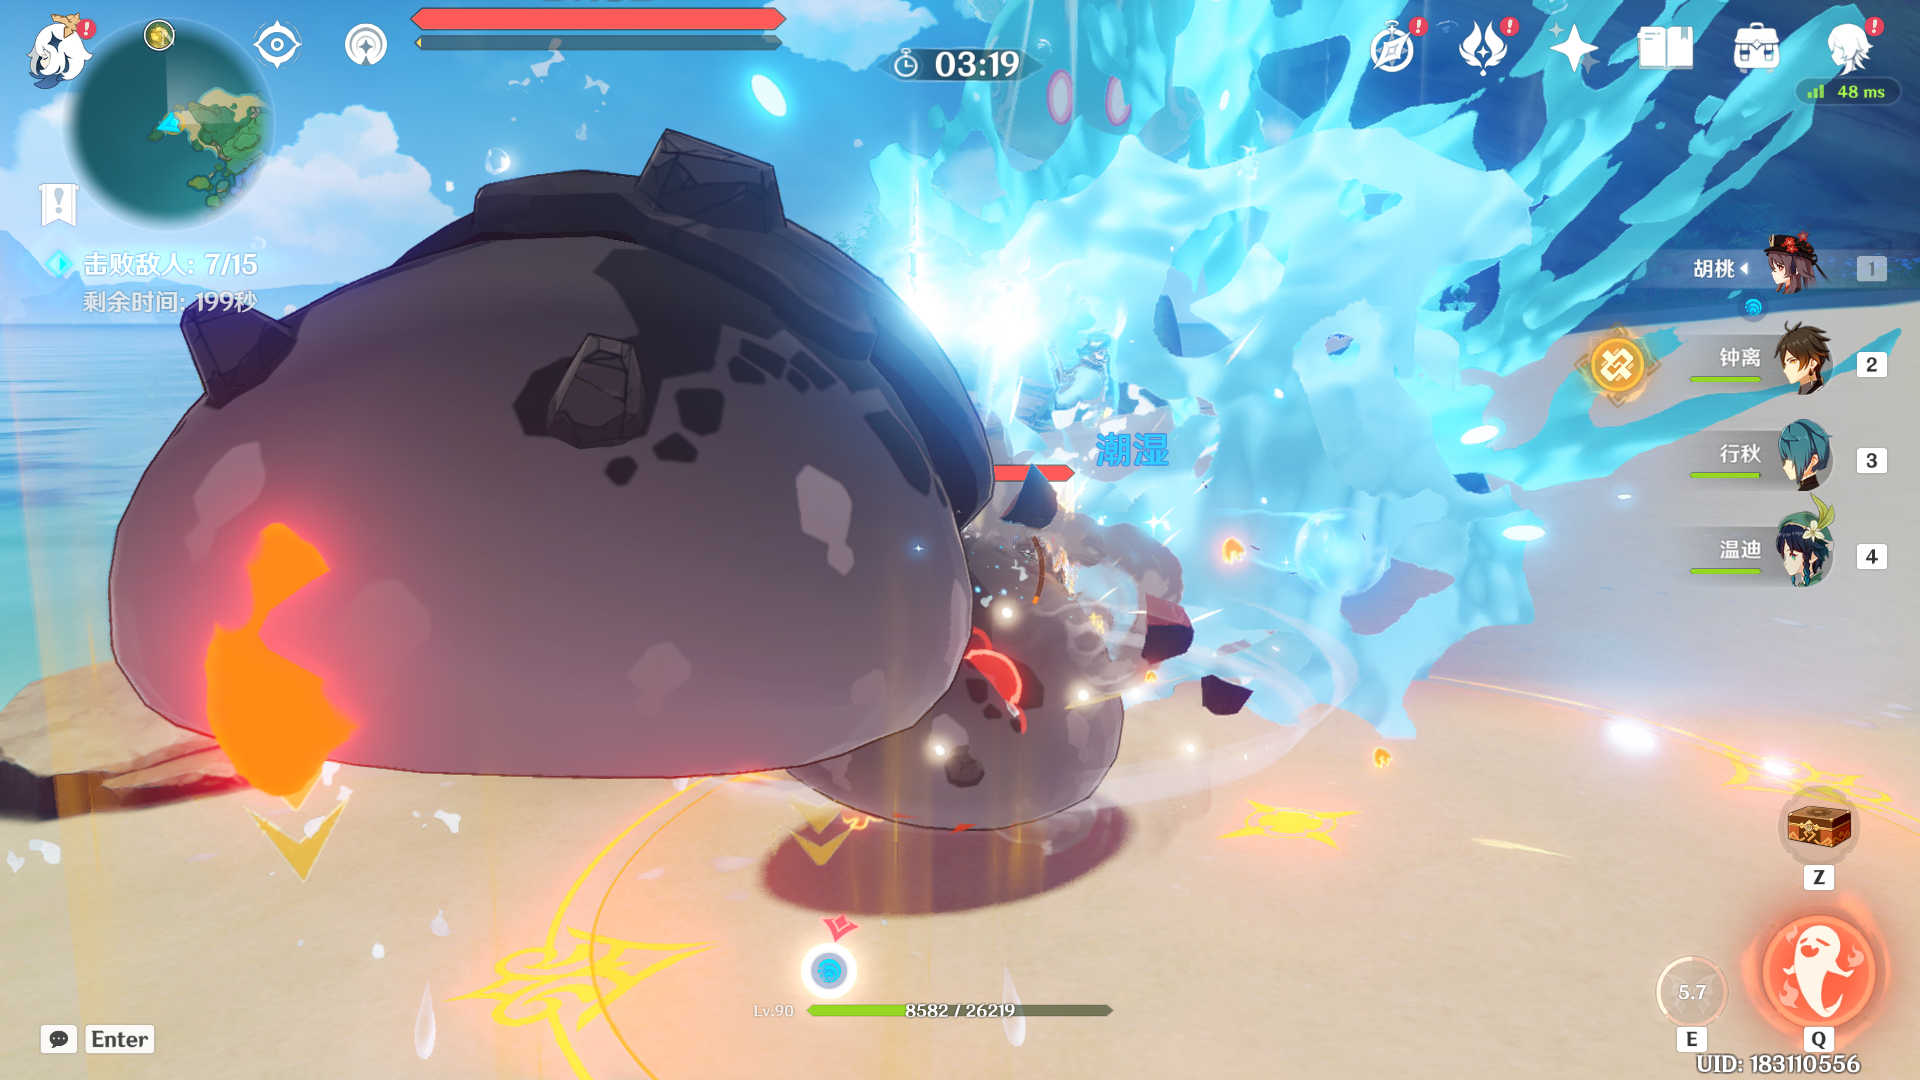slime: (73, 164, 998, 849)
